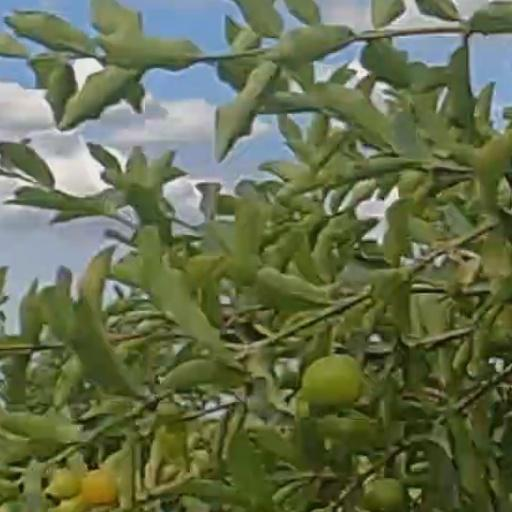acerola: (304, 355, 360, 411), (364, 478, 405, 510), (83, 472, 115, 502)
